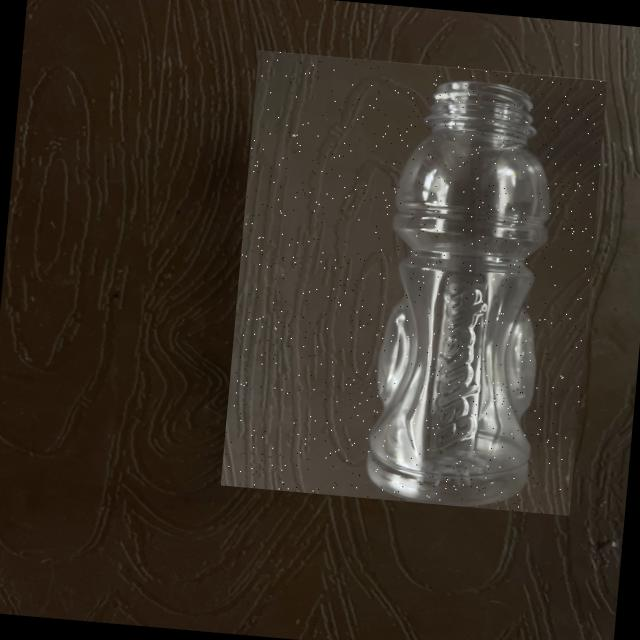PET_ClearBottle: (220, 48, 607, 515)
